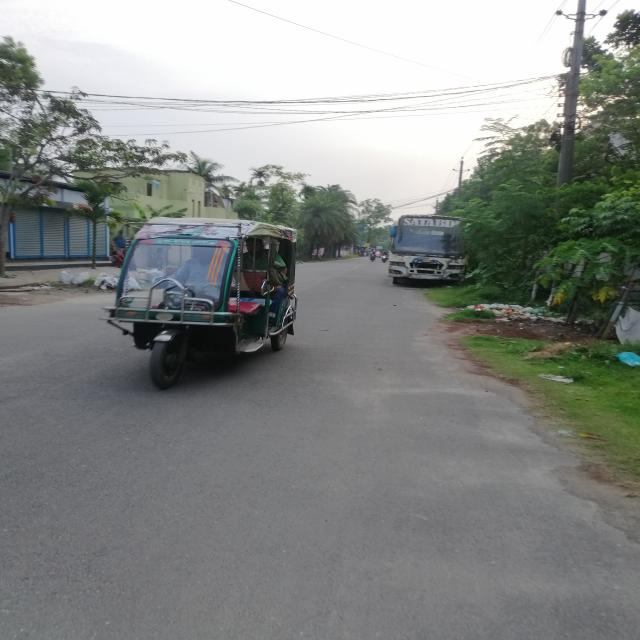Bus: (386, 209, 482, 288)
